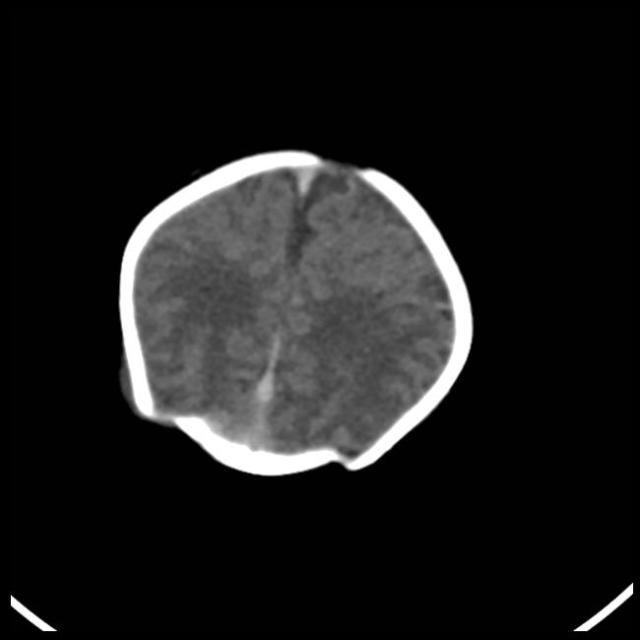lesion: (112, 142, 480, 482)
